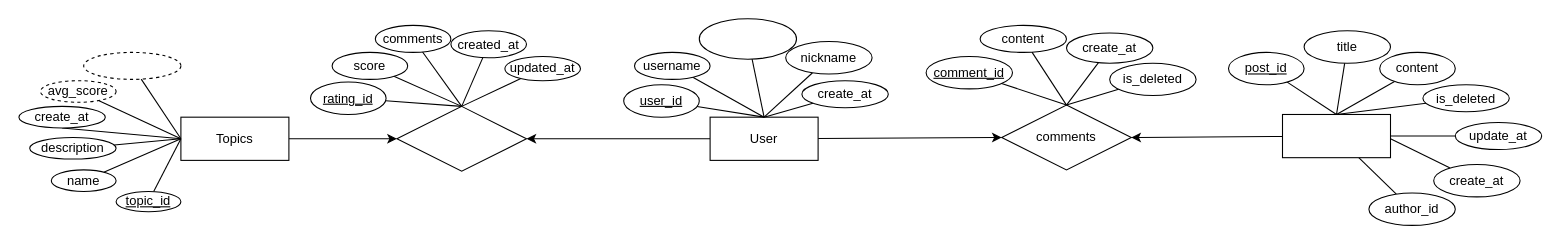
This 1561x245 diagram has some shape labels left out. The box of each missing label's shape, as (x1, y1, x2, y2) in pixels:
password_hash: (698, 18, 796, 59)
Post: (1281, 113, 1390, 158)
rates: (396, 105, 526, 171)
rating_counts: (83, 51, 181, 79)
